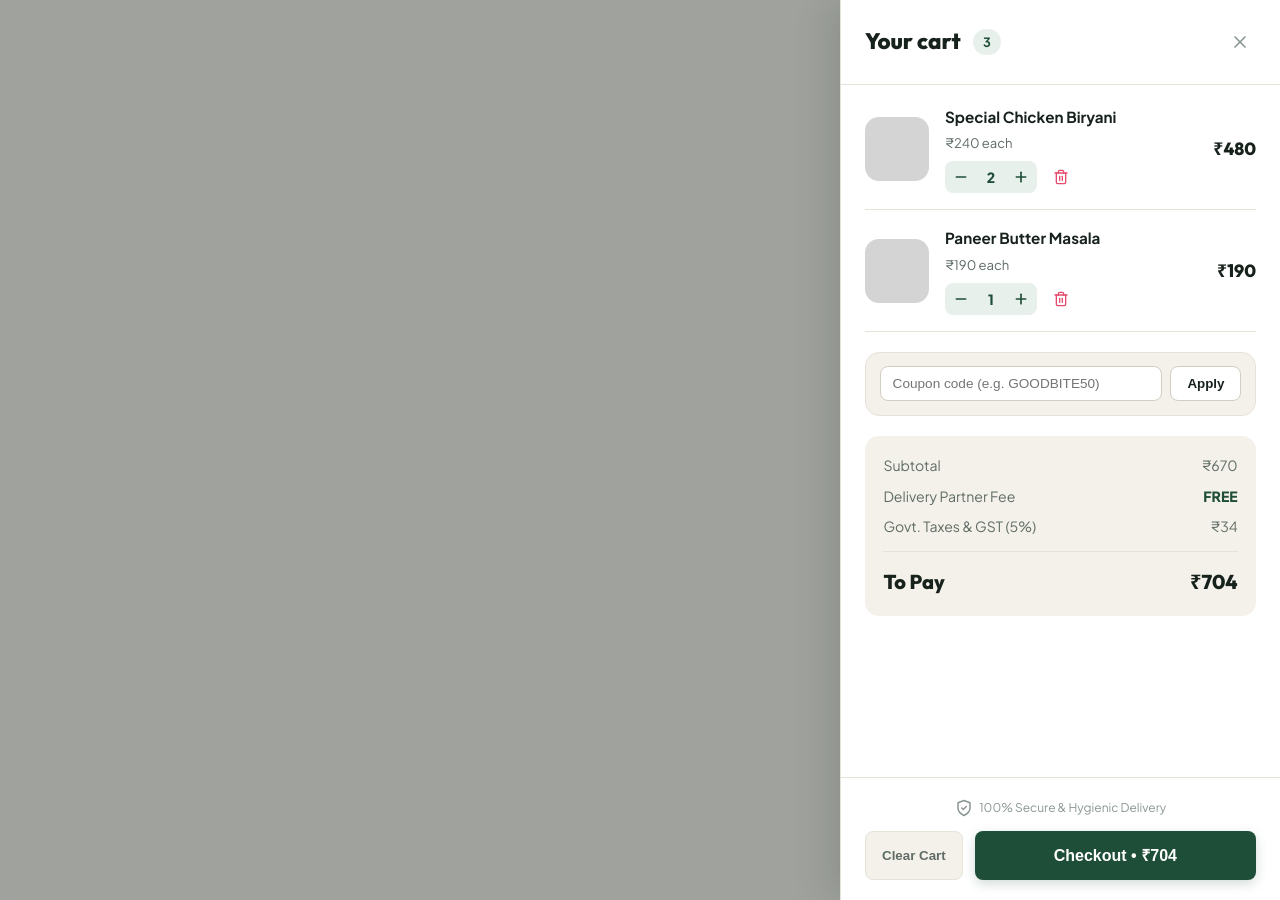
Experiment 1: Cart Component Testing (Rupee Currency & Indian Pricing) › tests coupon code application and discount recalculation
The image size is (1280, 900).
Note: Enter coupon code GOODBITE50 (₹50 discount)
Type "GOODBITE50" into the field with placeholder "Coupon code (e.g. GOODBITE50)".
click(1021, 384); type("GOODBITE50")  # box 880,366 -> 1162,401
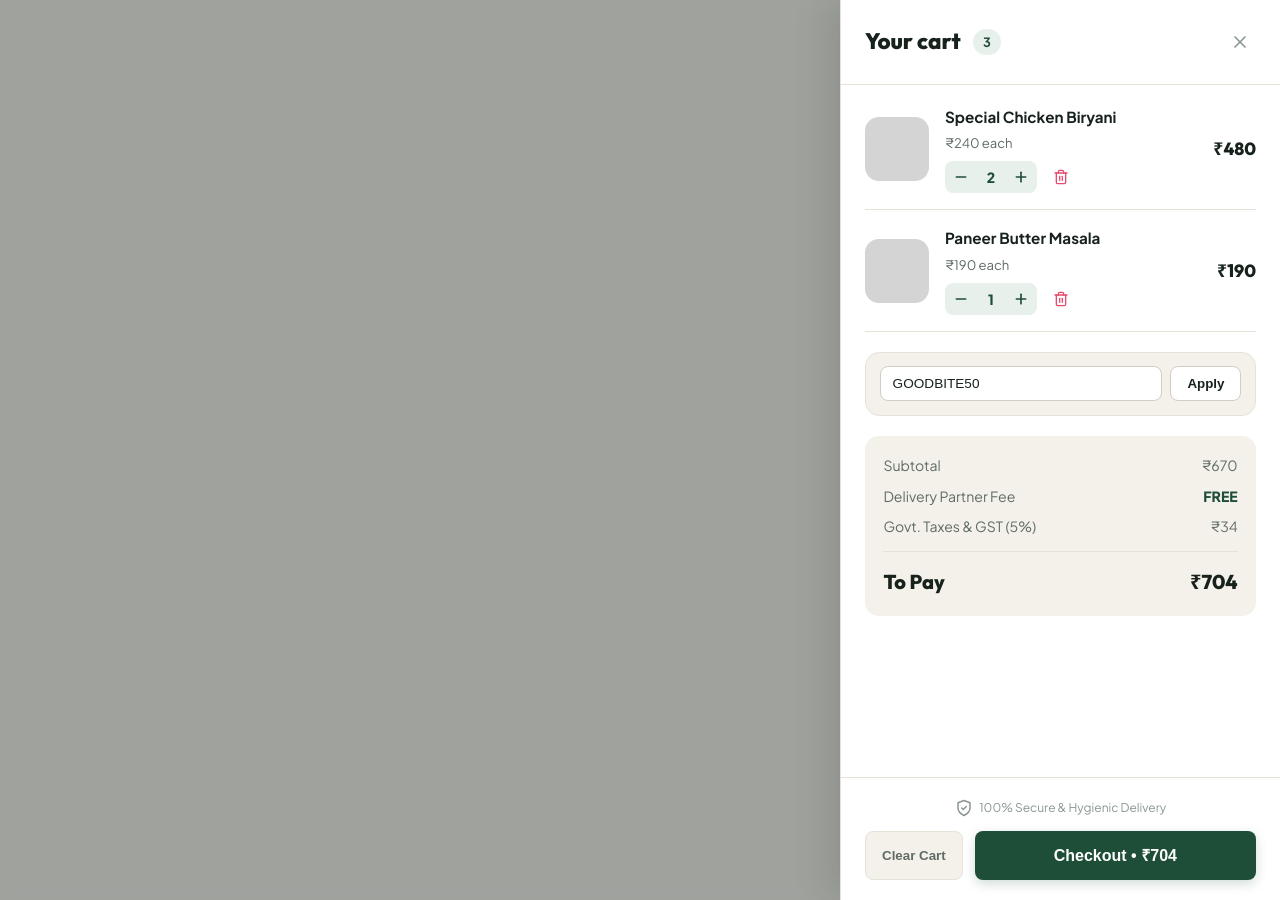
Click the button "Apply".
click(1206, 384)  # box 1170,366 -> 1241,401
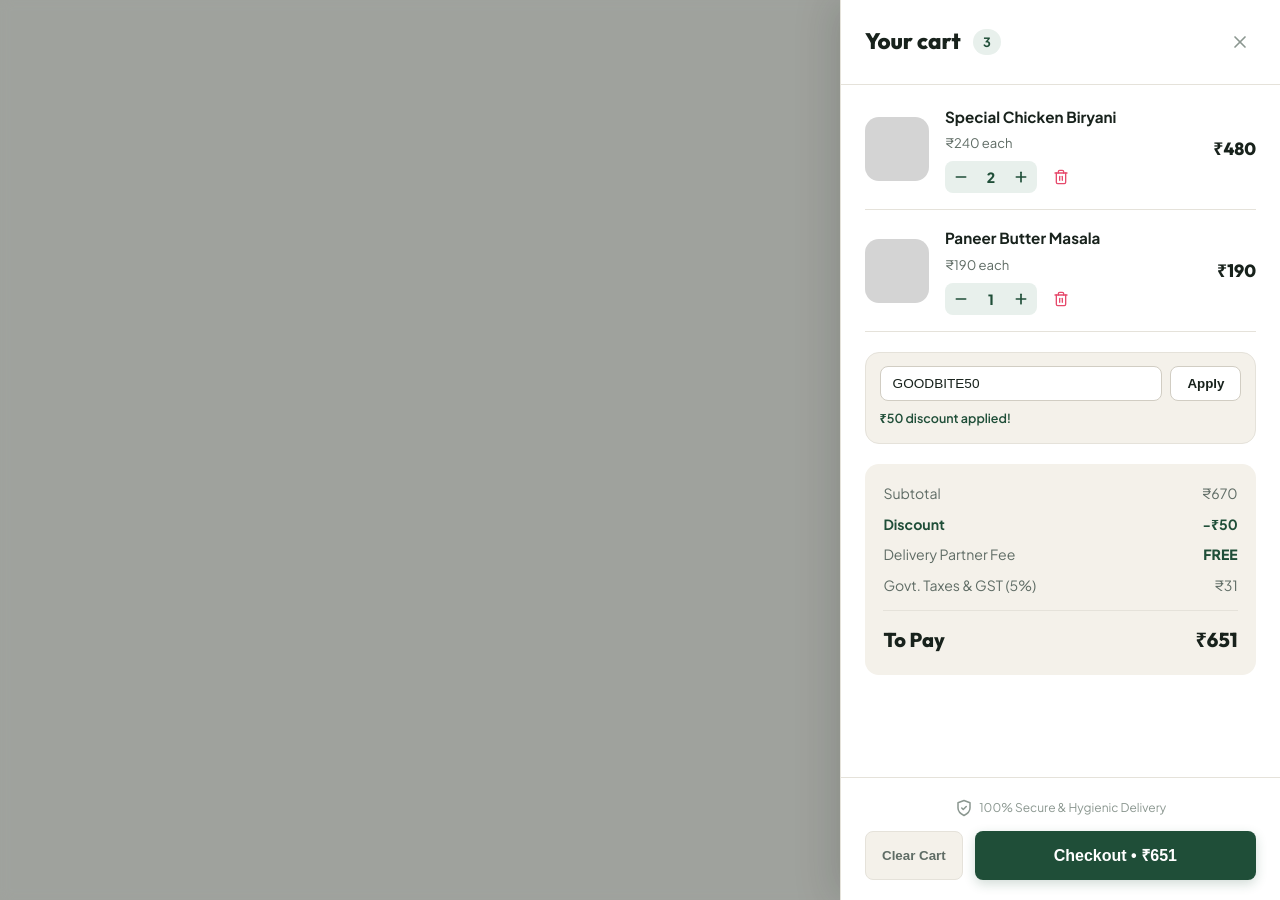
expect the text "₹50 discount applied!" is shown: met, box 880,410 -> 1011,426
expect the text "-₹50" is shown: met, box 1202,512 -> 1238,535
expect the text with test id "cart-total" reads "₹651": met, box 1195,624 -> 1238,656
